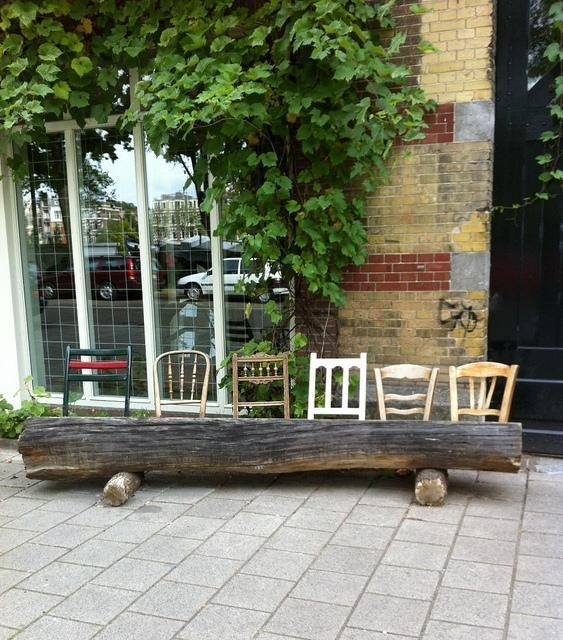car: (32, 258, 168, 301), (177, 256, 289, 302)
